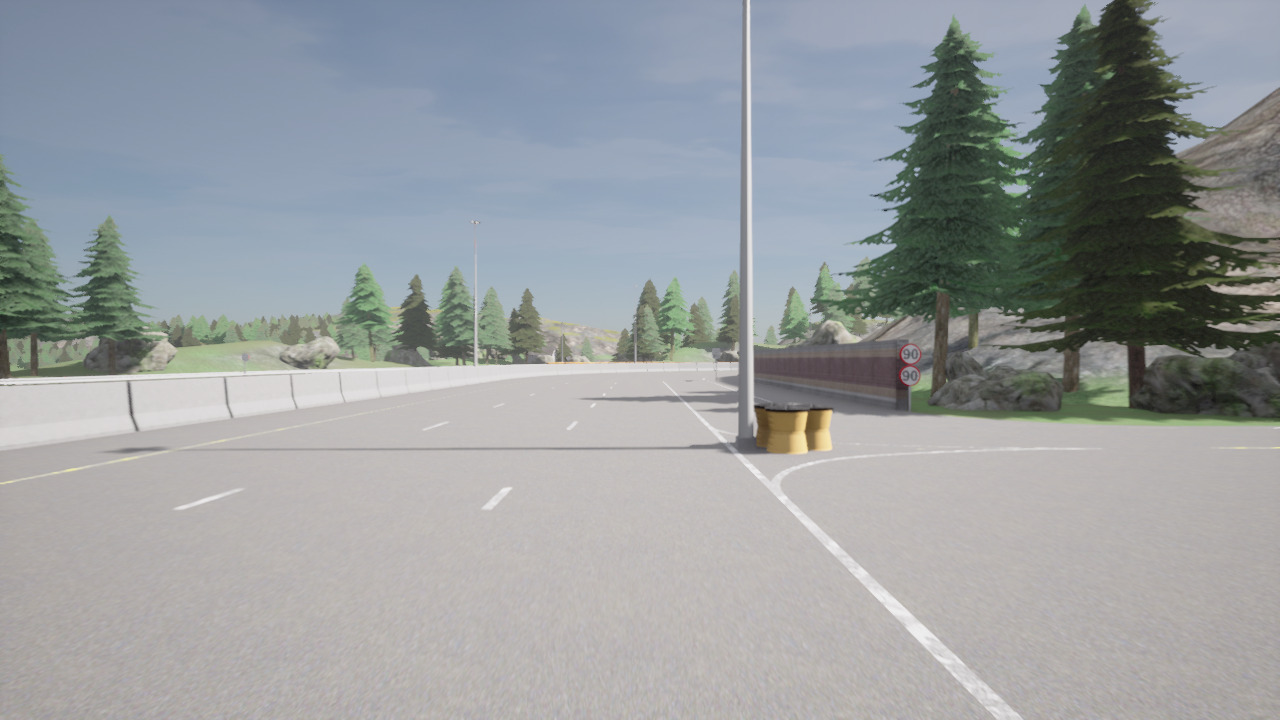sl90: (898, 343, 922, 365), (898, 365, 921, 387)
